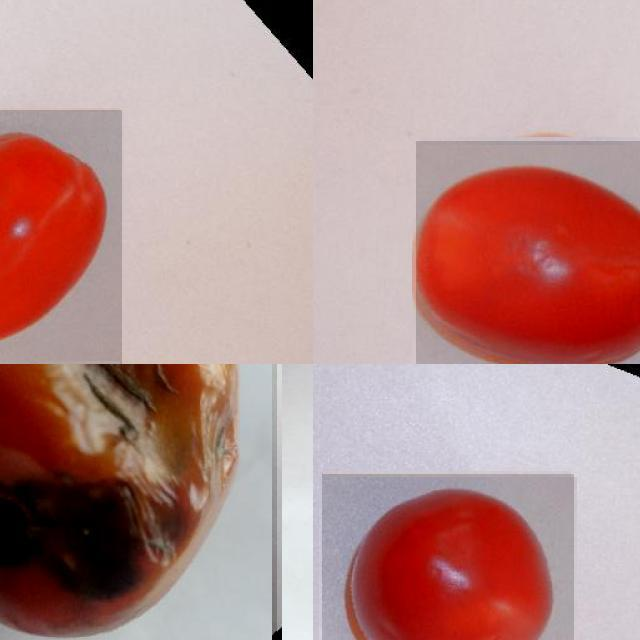Fresh Tomato: (415, 141, 640, 364), (321, 474, 574, 640), (0, 110, 122, 363)
Rotten Tomato: (0, 364, 276, 640)
